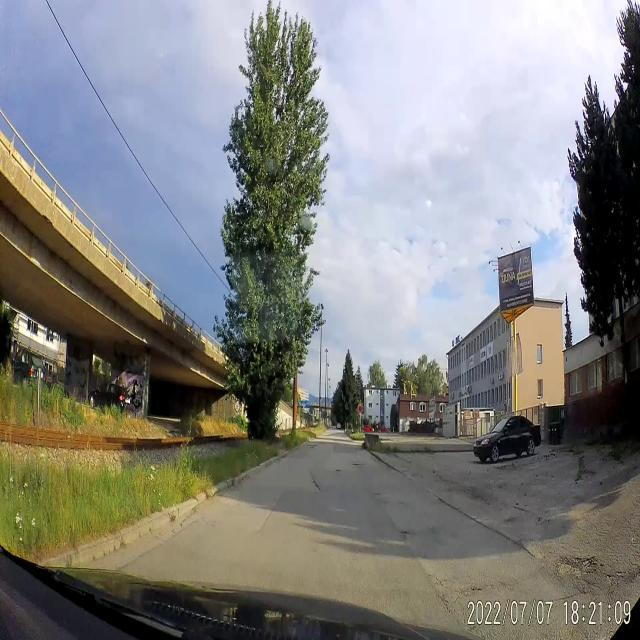Pothole: (394, 523, 418, 545)
